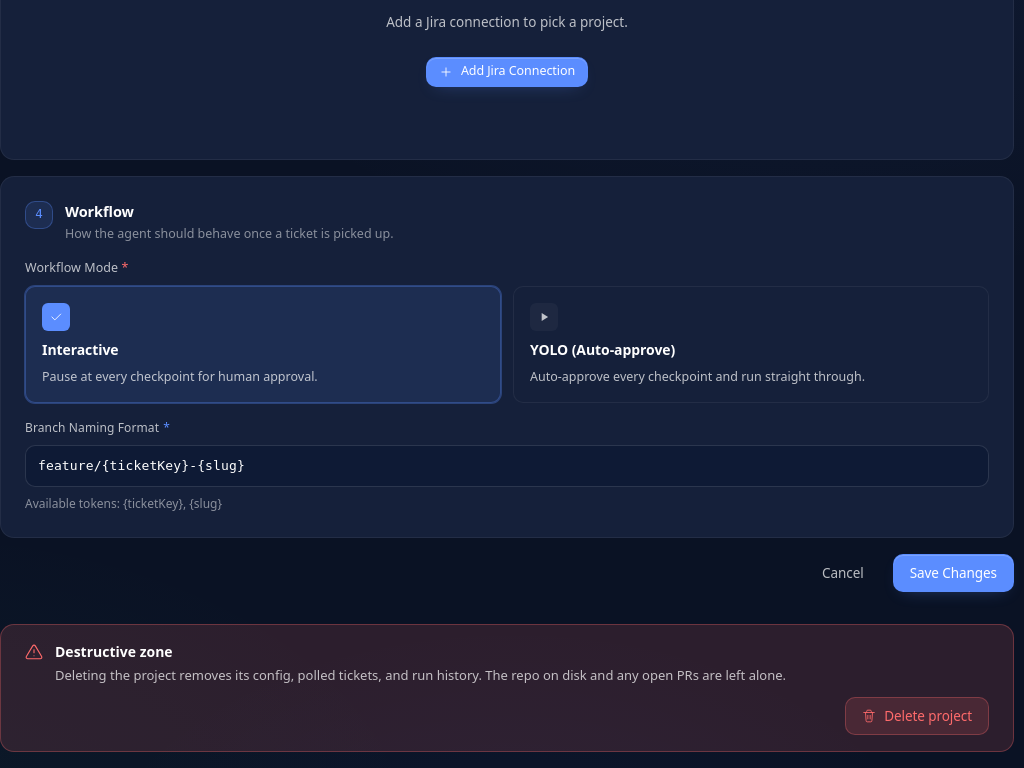
Test: <ProjectSettingsTab /> — SETTINGS › SETTINGS-004 delete dialog open › SETTINGS-004: clicking Delete project opens the confirm dialog
(page scrolled)
Click the button with test id "settings-delete-project".
click(917, 716)  # box [845,697,989,735]
(page scrolled)
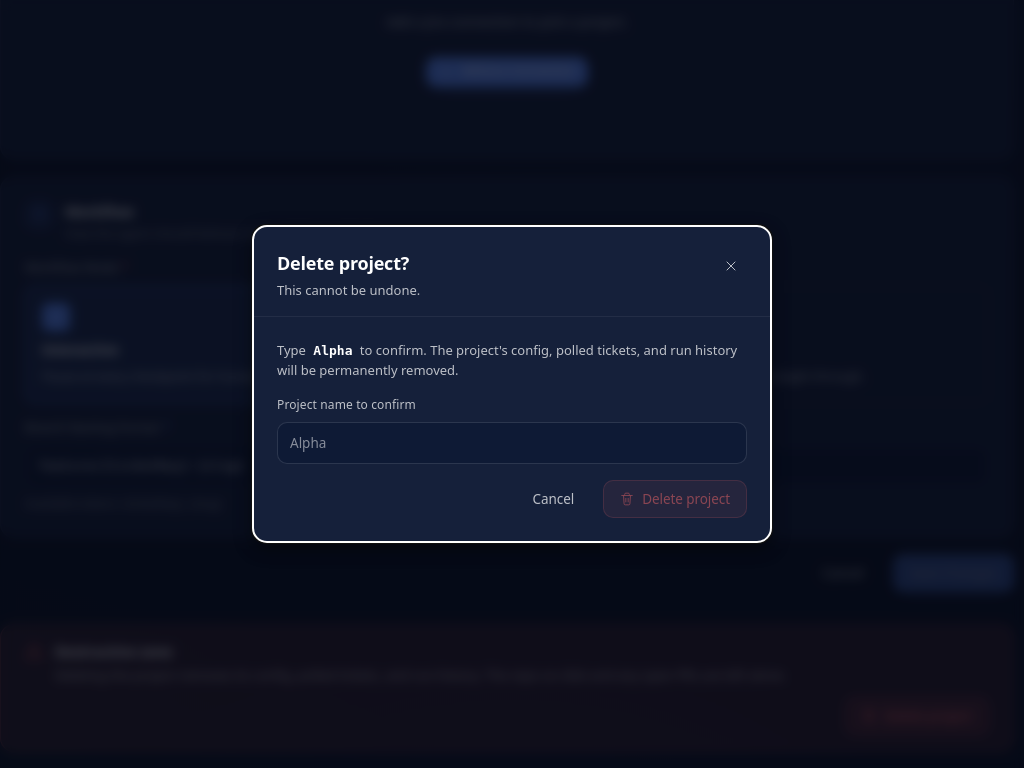
Result: the element with test id "settings-delete-dialog" is shown
Result: the field with test id "settings-delete-confirm-input" is shown at [278,423,746,463]
Result: the button with test id "settings-delete-confirm" is disabled at [603,480,747,518]
